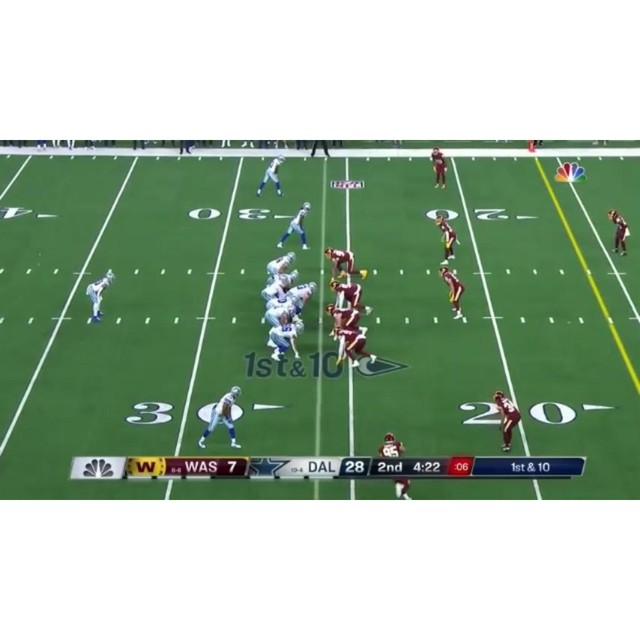american-football-player: (198, 386, 244, 449), (331, 325, 377, 368), (493, 391, 522, 452), (276, 202, 311, 249), (86, 270, 116, 324), (267, 321, 306, 362), (439, 266, 466, 321), (330, 280, 372, 315), (326, 304, 369, 338), (324, 247, 367, 281), (256, 153, 286, 197), (435, 214, 458, 262), (608, 208, 631, 256), (286, 282, 318, 312), (261, 274, 291, 305), (266, 252, 296, 278), (431, 146, 447, 188), (378, 433, 404, 458)
